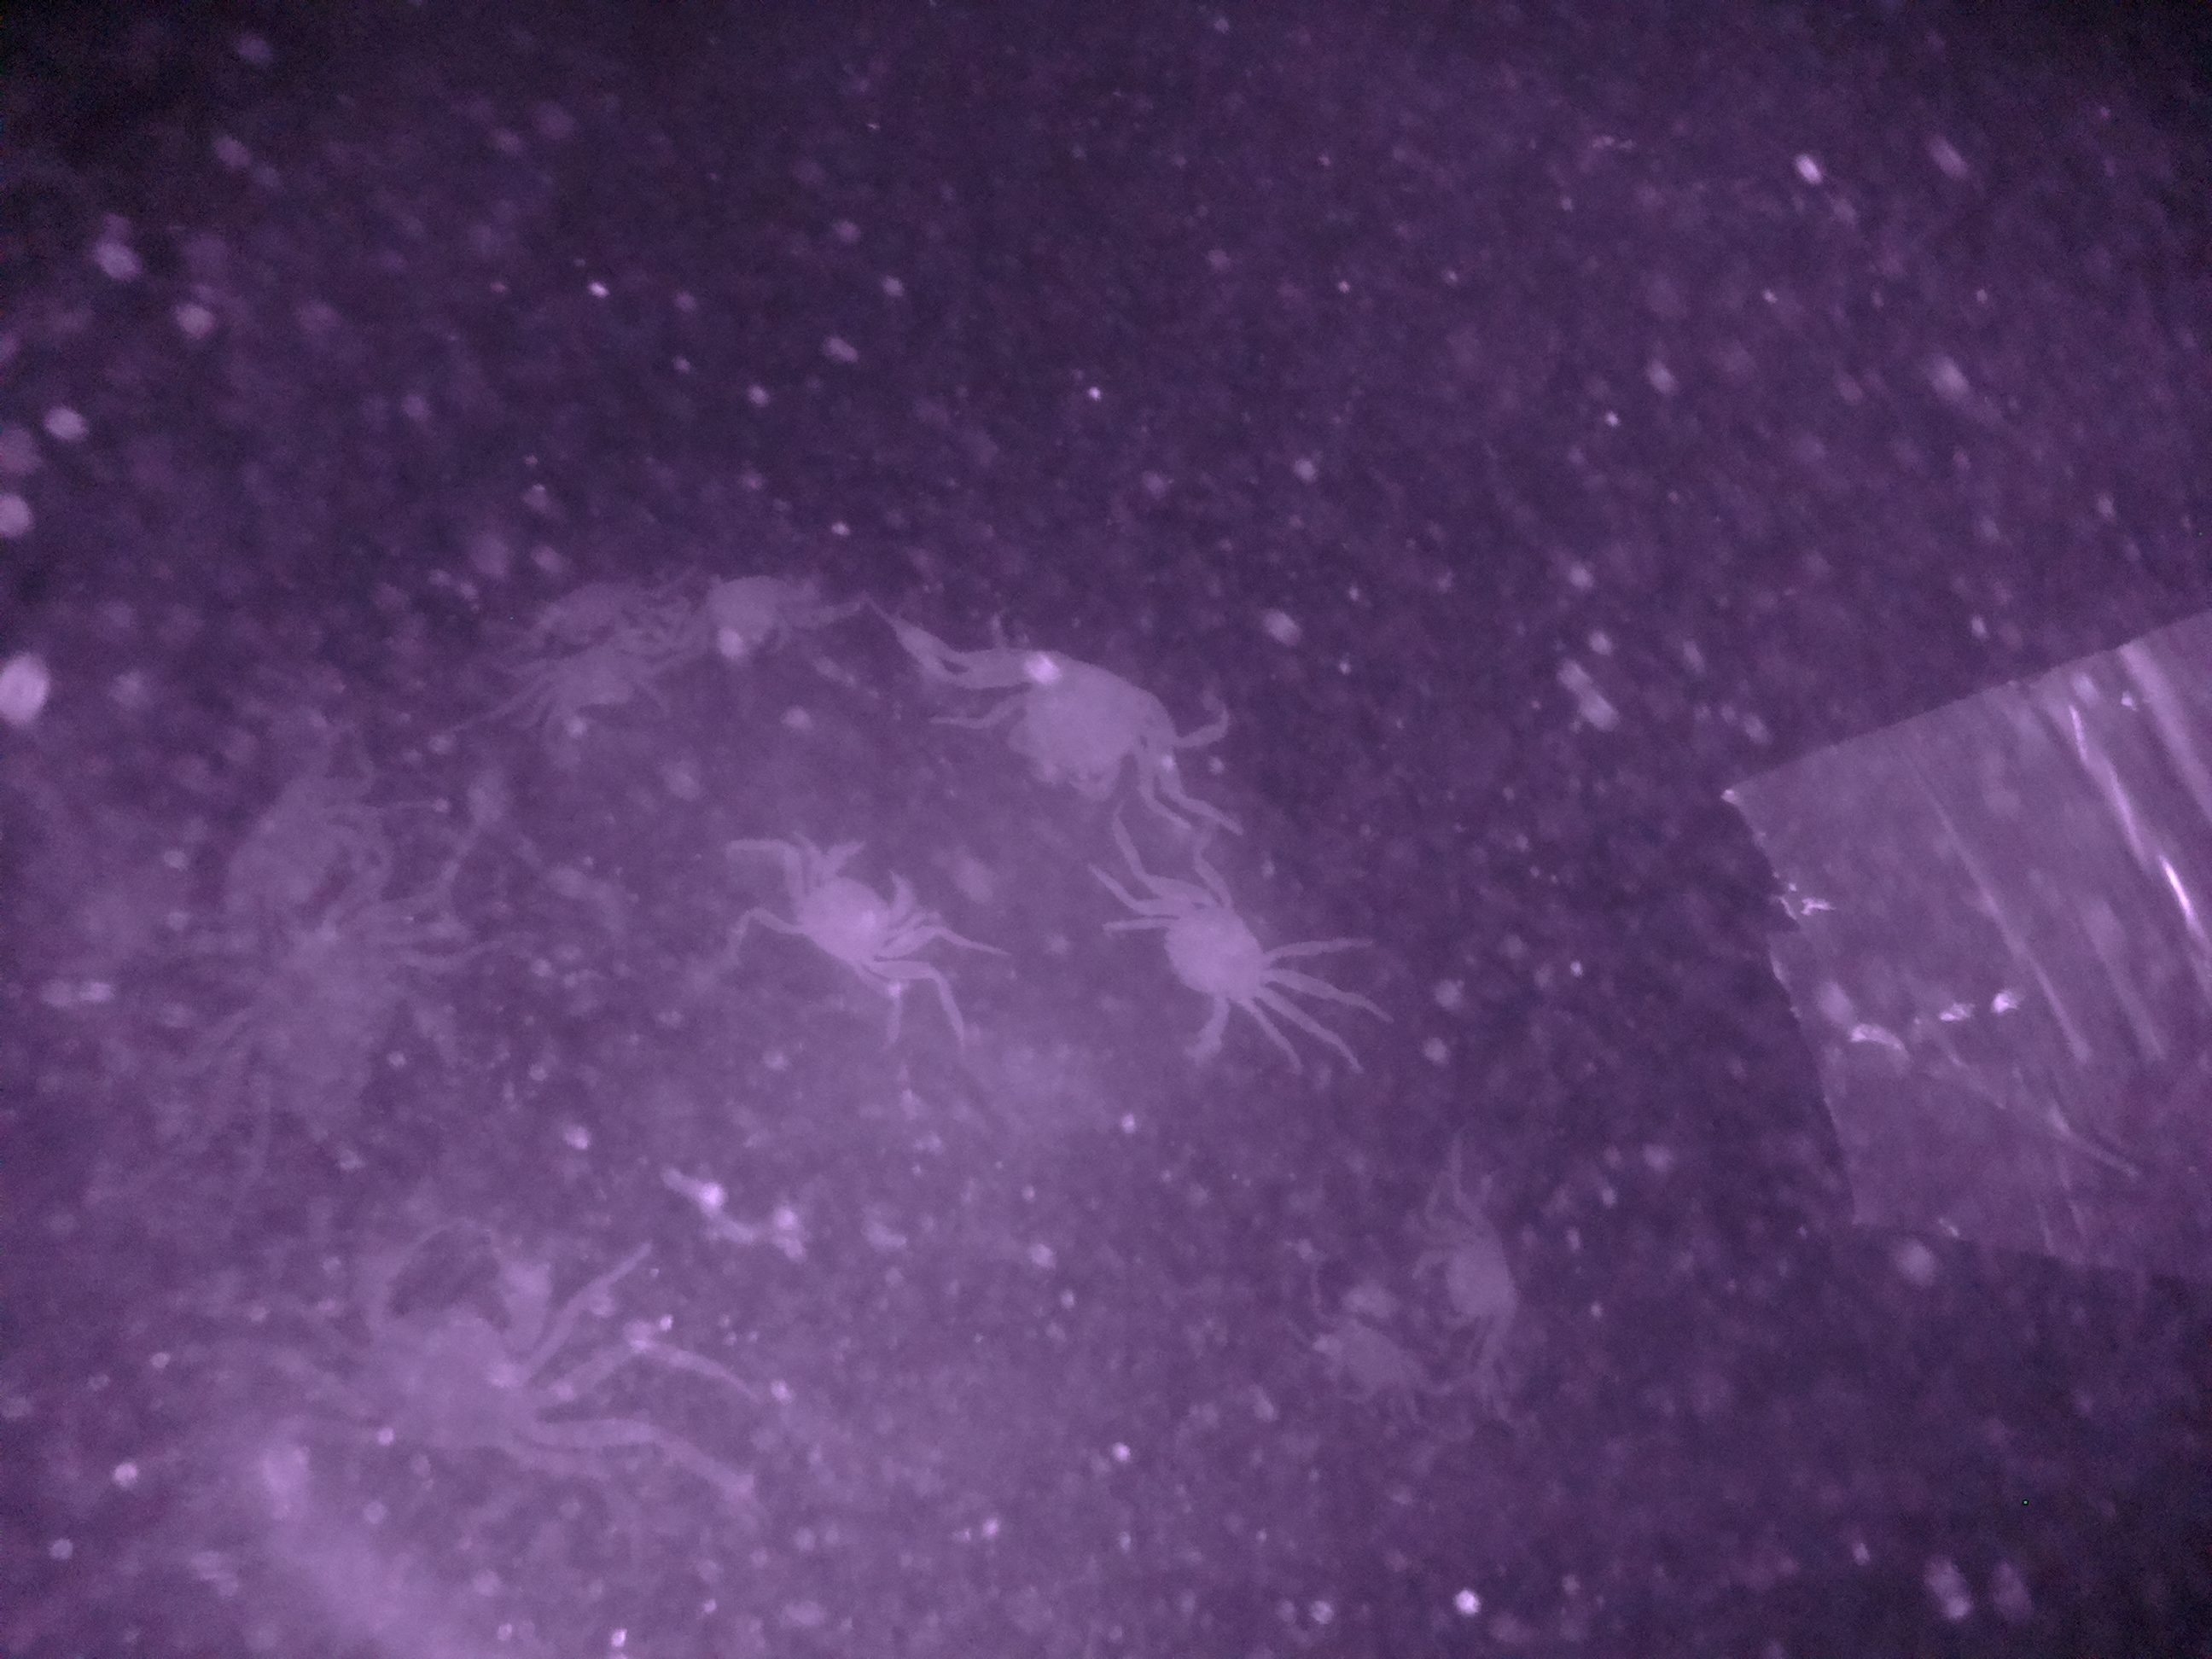Crab: (1109, 866, 1320, 1039), (765, 809, 941, 979)
